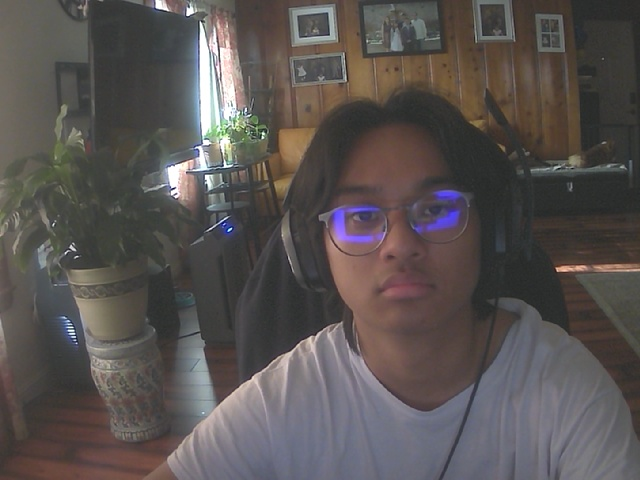neutral: (317, 114, 488, 339)
